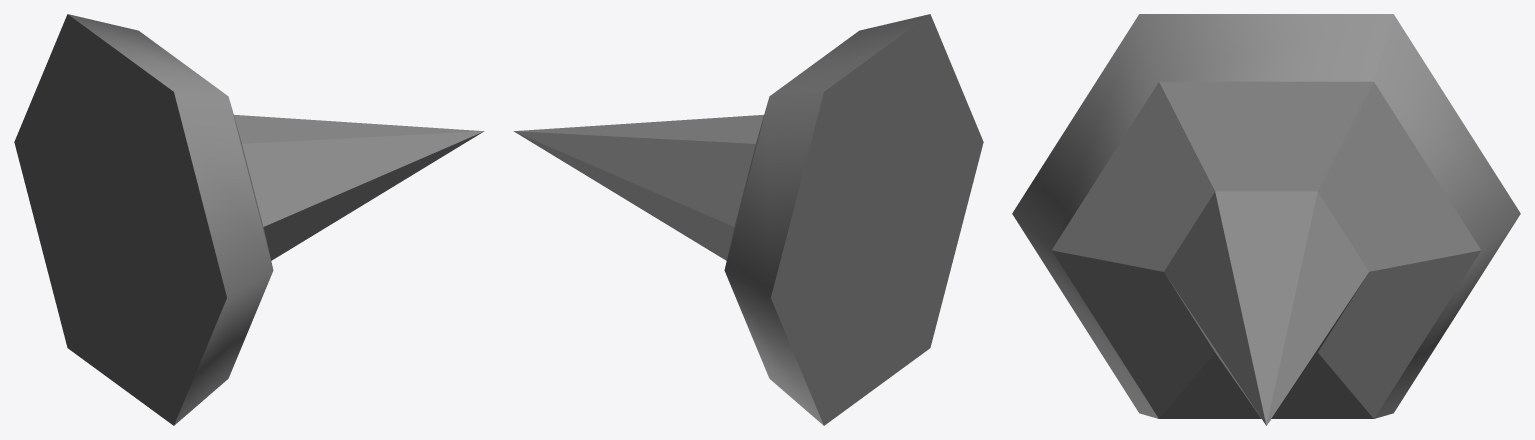
The model's file is Nail.fbx.
The picture shows the model from 3 angles, left to right: view 1: azimuth 30°, elevation 25°; view 2: azimuth 150°, elevation 25°; view 3: azimuth 270°, elevation 25°; orthographic projection. The views are drawn at different scales.
Parts seen in each view (by area): view 1: Cylinder010; view 2: Cylinder010; view 3: Cylinder010.
Boxes of the visible parts, left/top/right/bottom form: Cylinder010: left=14, top=14, right=484, bottom=425; Cylinder010: left=513, top=14, right=983, bottom=425; Cylinder010: left=1012, top=14, right=1520, bottom=425.
Size of the model in its own units: 8.37 by 7.34 by 8.47.
Materials: 1 (1 with a texture image).
